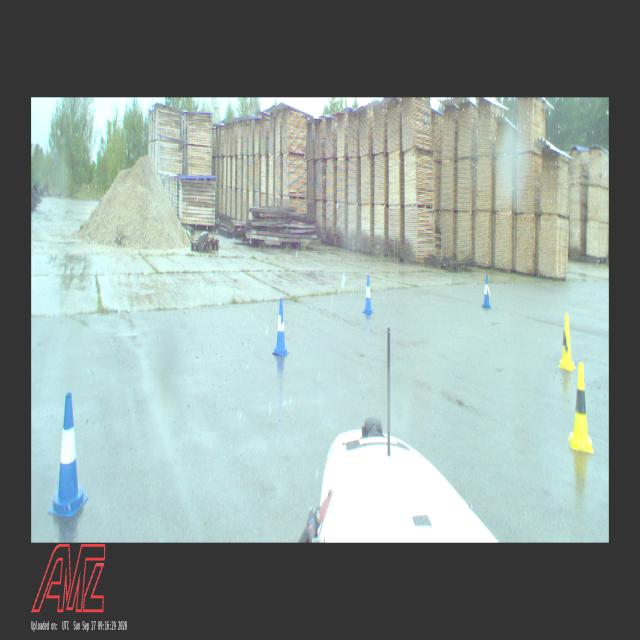blue_cone: (48, 393, 88, 517), (272, 298, 288, 356), (362, 276, 374, 314), (481, 275, 491, 309)
yellow_cone: (568, 364, 594, 454), (558, 314, 576, 371)
